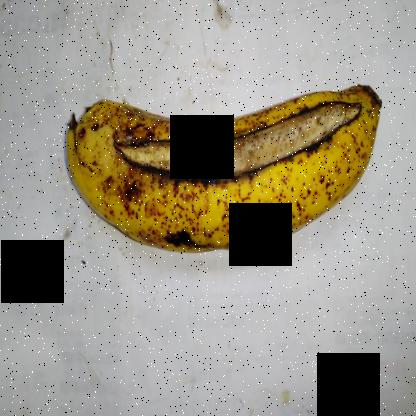rotten: (97, 77, 363, 213)
